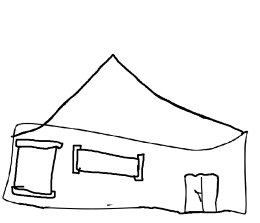bottom_placed_house: (1, 1, 260, 223)
door: (174, 168, 223, 217)
open_window: (11, 133, 65, 199), (69, 143, 145, 181)
roof: (11, 48, 251, 144)
wall: (2, 117, 252, 216)
